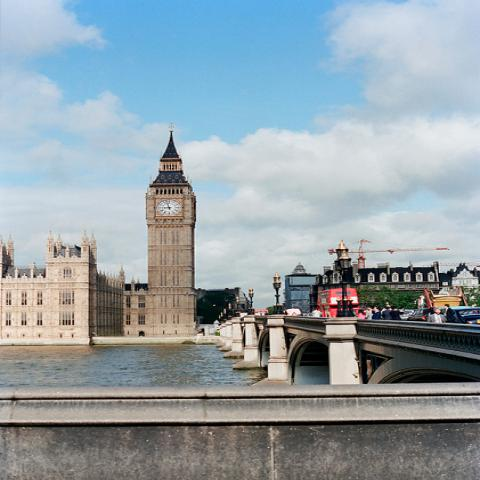bus: (318, 289, 341, 318), (346, 288, 360, 314)
car: (451, 307, 479, 325), (405, 308, 431, 321), (400, 310, 414, 319)
